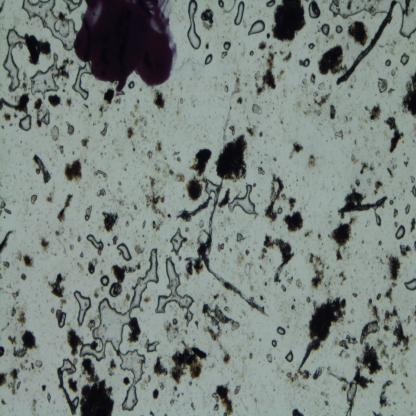Air bubble: (81, 247, 160, 410), (155, 256, 194, 327), (22, 0, 77, 50), (29, 53, 60, 98), (5, 28, 25, 90), (329, 1, 390, 19), (228, 184, 258, 217), (186, 0, 202, 50), (72, 290, 92, 328), (72, 62, 92, 100), (397, 0, 416, 39), (169, 226, 187, 254), (246, 19, 267, 36), (86, 234, 104, 251), (60, 358, 76, 376), (117, 243, 132, 262), (346, 381, 358, 402), (19, 113, 32, 132), (64, 0, 83, 12), (206, 182, 218, 196), (58, 312, 67, 330), (395, 225, 405, 241), (146, 340, 159, 352), (403, 278, 416, 290), (284, 348, 294, 363), (400, 52, 410, 66), (321, 22, 331, 35), (374, 210, 382, 226), (42, 111, 50, 126), (204, 52, 213, 65), (70, 398, 79, 411), (276, 325, 286, 336), (100, 275, 109, 286), (223, 40, 231, 52), (303, 56, 310, 68), (266, 0, 276, 8), (404, 203, 411, 214), (218, 0, 225, 8), (336, 25, 342, 34), (128, 81, 135, 88), (272, 340, 278, 348), (386, 58, 392, 66), (412, 187, 416, 198)
Background material: (298, 294, 346, 378), (82, 358, 115, 415), (201, 298, 239, 343), (168, 339, 206, 383), (215, 132, 250, 178), (139, 175, 167, 231), (265, 234, 294, 287), (271, 1, 306, 43), (352, 340, 382, 386), (253, 48, 278, 96), (110, 260, 141, 296), (329, 218, 355, 258), (337, 196, 388, 216), (126, 99, 148, 144), (310, 81, 336, 119), (320, 44, 349, 76), (25, 32, 52, 66), (154, 159, 186, 186), (385, 115, 405, 158), (305, 251, 327, 290), (182, 245, 206, 279), (12, 327, 38, 358), (267, 175, 284, 222), (212, 380, 234, 415), (55, 368, 72, 412), (401, 69, 416, 118), (0, 92, 31, 114), (112, 178, 132, 212), (358, 318, 380, 346), (347, 21, 369, 49), (392, 322, 410, 356), (30, 156, 51, 184), (57, 192, 74, 224), (67, 327, 84, 355), (49, 273, 67, 299), (378, 381, 393, 412), (101, 209, 120, 233), (185, 176, 203, 201), (65, 158, 83, 183), (283, 213, 305, 233), (126, 315, 141, 344), (386, 254, 401, 283), (8, 368, 22, 398), (83, 256, 100, 279), (55, 224, 67, 256), (154, 356, 169, 381), (189, 161, 208, 180), (200, 7, 215, 31), (233, 1, 247, 26), (363, 104, 381, 123), (0, 228, 14, 252), (382, 306, 400, 324), (16, 250, 33, 268), (234, 74, 249, 94), (101, 86, 116, 106), (378, 76, 394, 94), (348, 188, 364, 206), (339, 333, 357, 349), (318, 388, 332, 408), (153, 88, 166, 109), (359, 160, 376, 176), (301, 72, 316, 90), (34, 97, 42, 128), (398, 242, 413, 257), (289, 141, 303, 157), (60, 58, 70, 80), (254, 163, 268, 178), (48, 92, 62, 107), (385, 162, 397, 179), (166, 319, 178, 336), (368, 299, 378, 319), (92, 168, 108, 180), (243, 260, 253, 279), (386, 283, 395, 304), (222, 346, 232, 364), (108, 358, 118, 376), (388, 360, 398, 378), (313, 366, 324, 382), (0, 202, 12, 216), (83, 204, 92, 222), (154, 140, 164, 156), (68, 376, 78, 392), (251, 102, 263, 115), (95, 186, 108, 198), (334, 127, 345, 141), (73, 258, 84, 272), (374, 180, 385, 194), (65, 121, 75, 136), (258, 246, 268, 261), (50, 125, 60, 140), (40, 237, 50, 252), (0, 370, 8, 388), (31, 397, 39, 415), (18, 309, 26, 327), (46, 188, 55, 204), (100, 123, 110, 137), (80, 136, 90, 150), (288, 197, 297, 212), (246, 123, 255, 138), (30, 358, 42, 369), (349, 151, 359, 164), (29, 193, 39, 206), (288, 296, 296, 312), (98, 106, 109, 117), (7, 334, 18, 345), (291, 406, 303, 416), (283, 50, 292, 63), (338, 271, 346, 285), (152, 387, 160, 401), (380, 322, 391, 332), (55, 143, 65, 154), (235, 233, 247, 242), (20, 359, 29, 371), (381, 343, 388, 358), (409, 217, 416, 232), (247, 348, 254, 363), (234, 382, 242, 395), (171, 150, 181, 160), (142, 294, 152, 304), (12, 289, 21, 300), (295, 276, 302, 290), (90, 340, 98, 352), (394, 209, 401, 222), (266, 352, 273, 365), (308, 155, 315, 168), (0, 343, 6, 358), (217, 242, 225, 253), (314, 232, 325, 240), (146, 148, 153, 160), (258, 41, 267, 50), (2, 259, 10, 269), (304, 229, 314, 237), (4, 112, 12, 122), (307, 42, 317, 50), (112, 234, 119, 245), (122, 376, 130, 385), (10, 306, 16, 318), (0, 322, 10, 329), (20, 272, 27, 282), (66, 97, 72, 108), (351, 292, 359, 300), (256, 129, 264, 137), (403, 159, 410, 168), (78, 249, 84, 259), (134, 202, 139, 212), (46, 391, 50, 403), (41, 384, 47, 392), (376, 292, 382, 300), (69, 245, 75, 252), (166, 211, 172, 218), (355, 180, 360, 188), (266, 31, 270, 40), (76, 233, 80, 241), (378, 240, 383, 246)
Cellulose filter fibre: (206, 182, 265, 312), (336, 0, 398, 84), (222, 89, 239, 150), (176, 199, 212, 218), (285, 370, 298, 384)
Fragment: (196, 148, 211, 160)
Pen: (75, 0, 176, 84)
